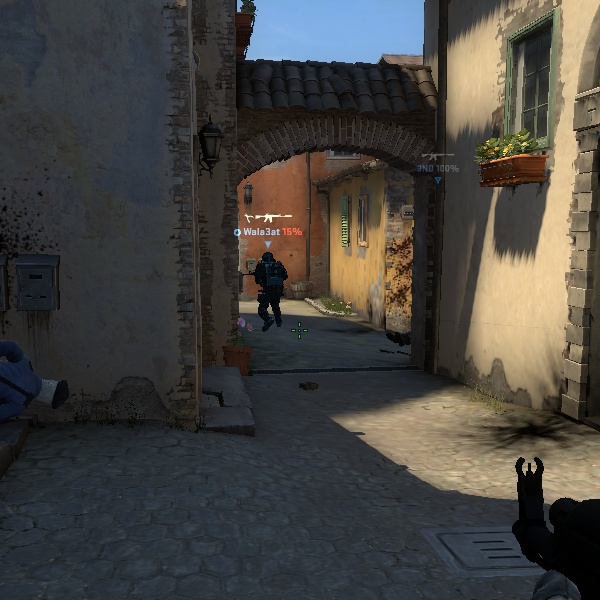ct_body: (242, 249, 292, 332)
